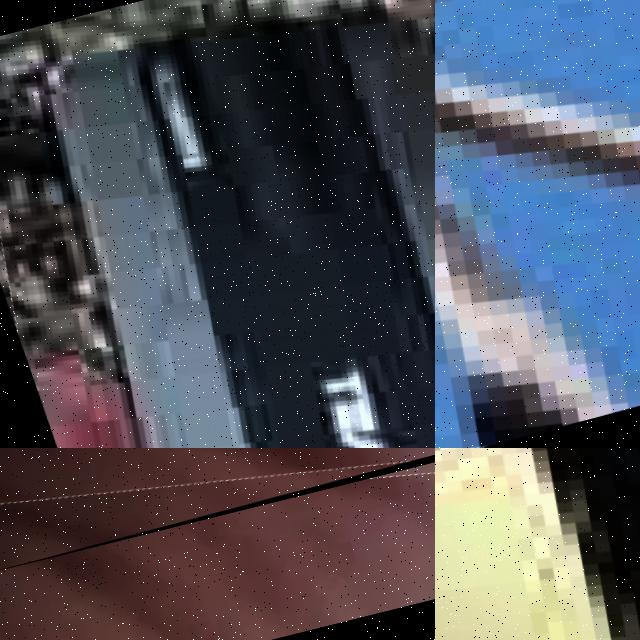0: (0, 0, 435, 448)
drone: (435, 0, 640, 448), (0, 448, 435, 586), (435, 448, 640, 640)
